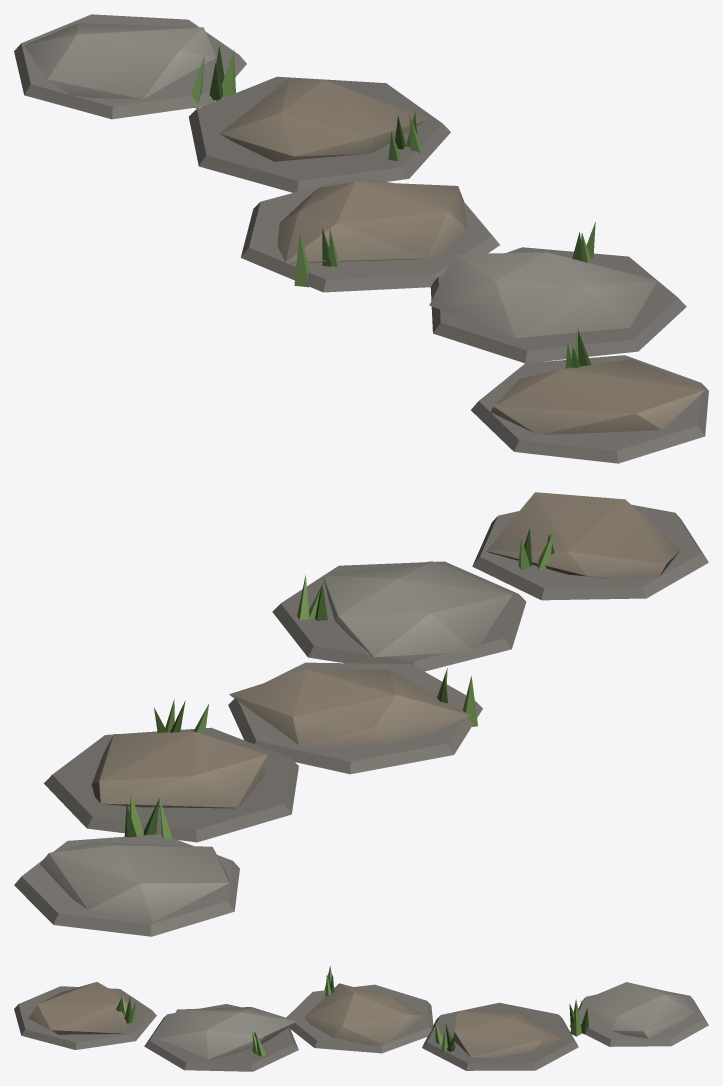
Rendered from stepping-stones.glb.
The picture shows the model from 3 angles, top to bottom: view 1: azimuth 30°, elevation 25°; view 2: azimuth 150°, elevation 25°; view 3: azimuth 270°, elevation 25°; orthographic projection. The views are drawn at different scales.
Parts seen in each view (by area): view 1: stepping_stones; view 2: stepping_stones; view 3: stepping_stones.
Part boxes in pixels (x1,y1,x2,y2): stepping_stones: (14,14,708,463); stepping_stones: (14,492,708,936); stepping_stones: (14,966,708,1071).
Size of the model in its own units: 1.14 by 0.1968 by 4.
